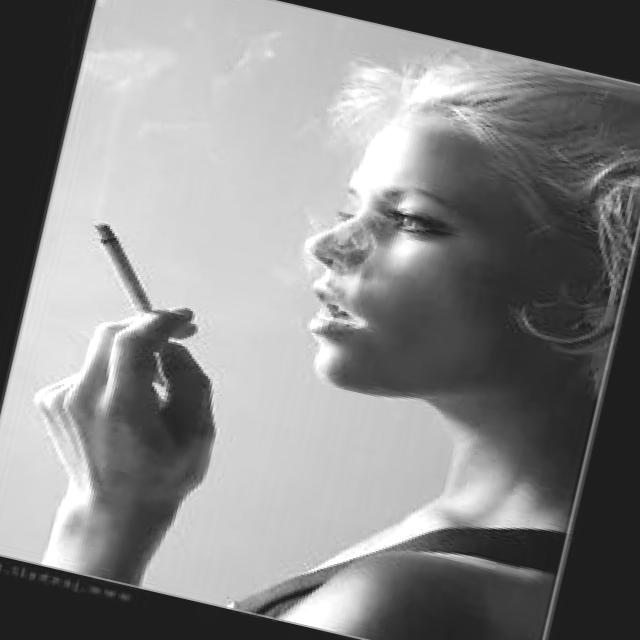smoke: (73, 218, 182, 326)
